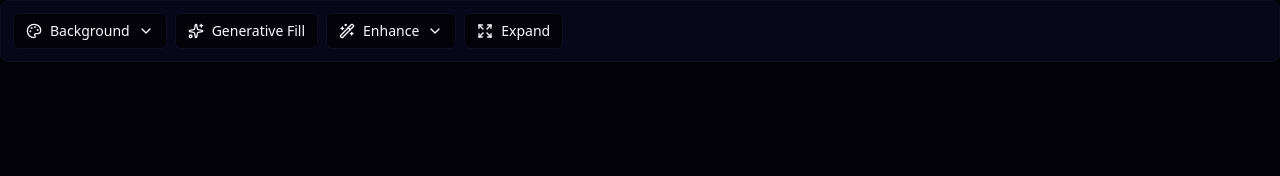
Test: EditingToolbar › opens background dropdown menu
Click the button with aria-label "background editing tools".
click(90, 31)  # box [13, 13, 167, 49]
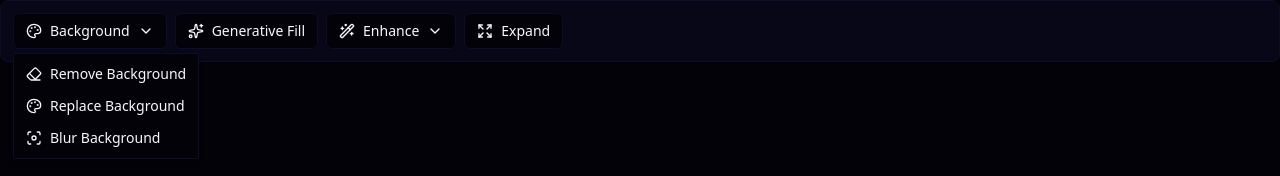
Expected: the menu item "Remove Background" is shown, [26, 64, 186, 83]
Expected: the menu item "Replace Background" is shown, [26, 96, 185, 115]
Expected: the menu item "Blur Background" is shown, [26, 128, 160, 147]
